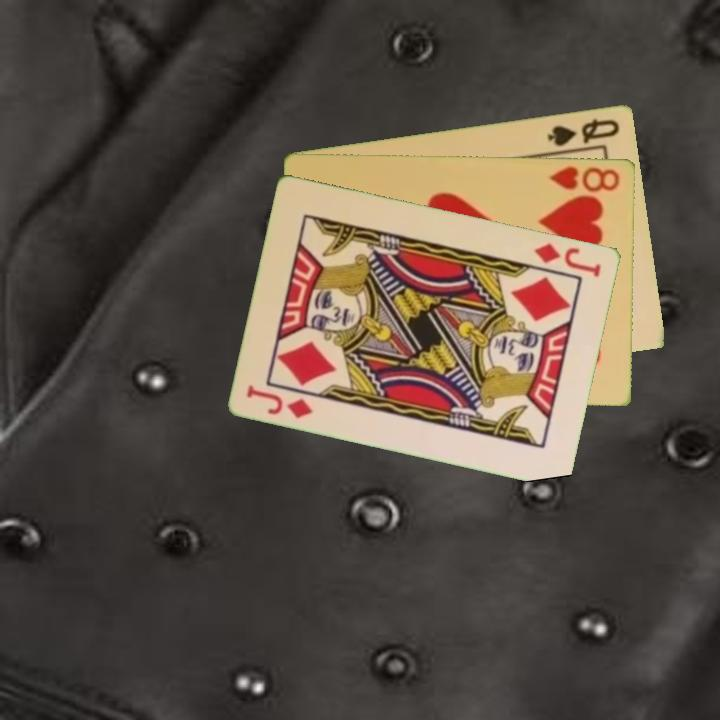8h: (546, 162, 623, 194)
Jd: (531, 239, 605, 279), (243, 381, 317, 421)
Qs: (544, 114, 623, 149)
